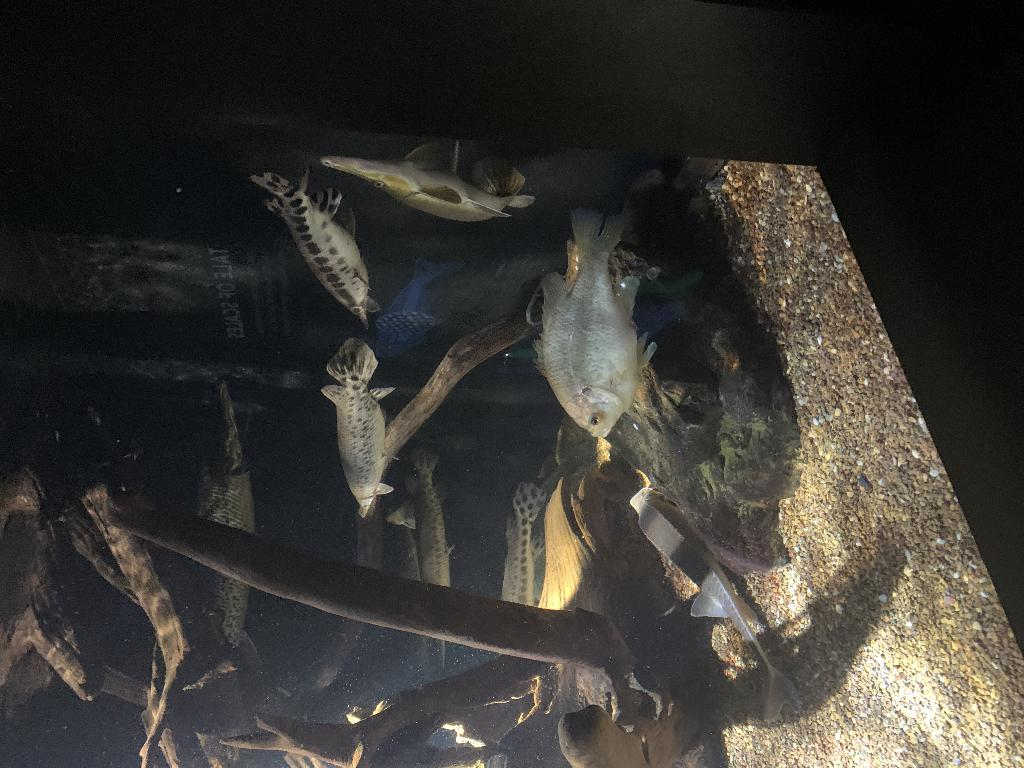Fish: (533, 211, 656, 437), (248, 166, 381, 329), (321, 141, 535, 222), (322, 338, 395, 520)
